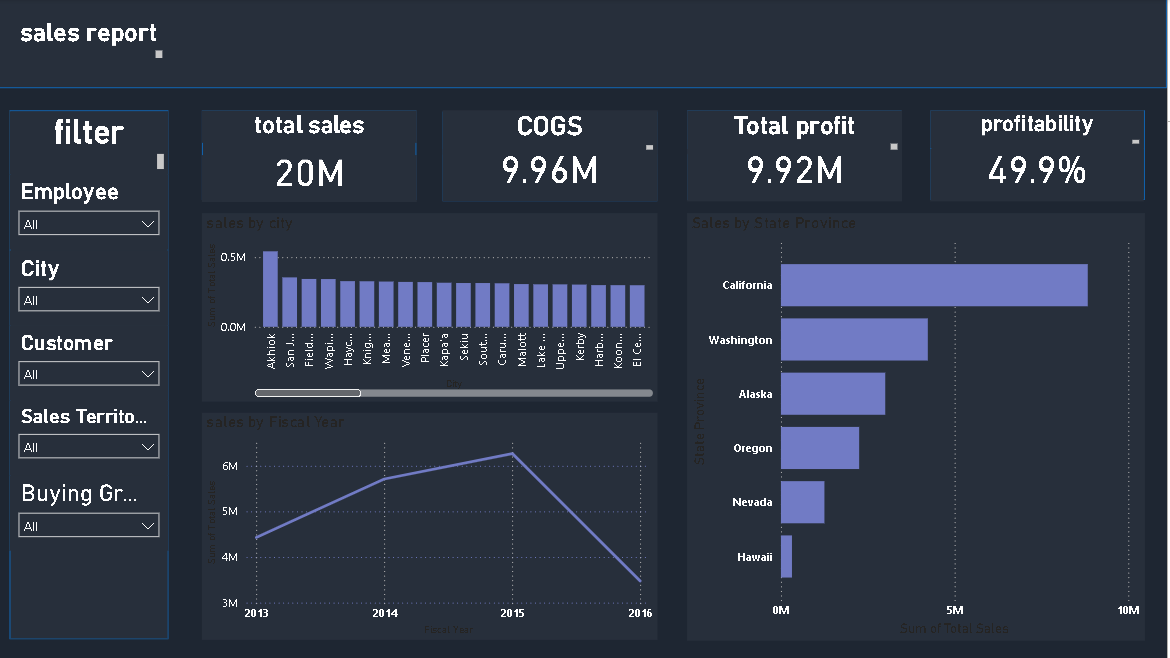

This screenshot's page, from the dashboard's own definition file:
{"tool":"powerbi","page":{"name":"Sales","canvas":[1280,720],"ordinal":0},"visuals":[{"type":"shape","box":[0,0,1280,97.4],"z":0},{"type":"shape","box":[15.4,122,173.8,578.1],"z":1000},{"type":"shape","box":[225.7,122,234.3,97.9],"z":2000},{"type":"card","fields":{"Values":["Sum(FactSale.Total Sales)"]},"box":[225.6,170,234.4,51.1],"z":3000},{"type":"textbox","title":"total sales","box":[225.6,122.2,234.4,35.6],"z":4000},{"type":"shape","box":[488.8,122.9,234.3,97.9],"z":5000},{"type":"shape","box":[755.7,122,234.3,97.9],"z":6000},{"type":"shape","box":[1021.7,122,234.3,97.9],"z":7000},{"type":"card","fields":{"Values":["FactSale.prifitability"]},"box":[1022.2,163.3,233.3,56.7],"z":8000},{"type":"card","fields":{"Values":["Sum(FactSale.Profit)"]},"box":[755.6,163.3,234.4,56.7],"z":9000},{"type":"card","fields":{"Values":["Sum(FactSale.COST)"]},"box":[488.9,163.3,234.4,56.7],"z":10000},{"type":"textbox","title":"profitability","box":[1022.2,122.2,233.3,41.1],"z":11000},{"type":"textbox","title":"Total profit","box":[755.6,122.2,234.4,47.8],"z":12000},{"type":"textbox","title":"COGS","box":[488.9,122.2,234.4,47.8],"z":13000},{"type":"textbox","title":"filter","box":[15.6,123.3,173.3,68.9],"z":14000},{"type":"slicer","fields":{"Values":["DimEmployee.Employee"]},"box":[15.6,192.2,173.3,82.2],"z":15000},{"type":"slicer","fields":{"Values":["DimCity.City"]},"box":[15.6,274.4,173.3,82.2],"z":16000},{"type":"slicer","fields":{"Values":["DimCity.Sales Territory"]},"box":[15.6,438.9,173.3,82.2],"z":17000},{"type":"slicer","fields":{"Values":["DimCustomer.Customer"]},"box":[15.6,356.7,173.3,82.2],"z":18000},{"type":"slicer","fields":{"Values":["DimCustomer.Buying Group"]},"box":[15.6,521.1,173.3,82.2],"z":19000},{"type":"textbox","title":"sales report","box":[15.6,20,172.2,50],"z":20000},{"type":"columnChart","title":"sales by city","fields":{"Category":["DimCity.City"],"Y":["Sum(FactSale.Total Sales)"]},"box":[225.6,233.3,497.8,205.6],"z":20001},{"type":"lineChart","title":"sales by Fiscal Year","fields":{"Category":["DimDate.Fiscal Year Hierarchy.Fiscal Year","DimDate.Fiscal Year Hierarchy.Month","DimDate.Fiscal Year Hierarchy.Day"],"Y":["Sum(FactSale.Total Sales)"]},"box":[225.6,452.2,497.8,247.8],"z":20002},{"type":"barChart","title":" Sales by State Province","fields":{"Y":["Sum(FactSale.Total Sales)"],"Category":["DimCity.State Province Hierarchy.State Province","DimCity.State Province Hierarchy.City"]},"box":[755.6,233.3,500,466.7],"z":20003}]}

Visuals, with their boxes in screenshot pixels (x1, y1, x2, y2), scaled from the page's 1280x720 canvas onto the 1170x658 screenshot:
shape: region(0, 0, 1169, 89)
shape: region(14, 111, 173, 640)
shape: region(206, 111, 420, 201)
card - Sum(FactSale.Total Sales): region(206, 155, 420, 202)
"total sales" textbox: region(206, 112, 420, 144)
shape: region(447, 112, 661, 202)
shape: region(691, 111, 905, 201)
shape: region(934, 111, 1148, 201)
card - FactSale.prifitability: region(934, 149, 1148, 201)
card - Sum(FactSale.Profit): region(691, 149, 905, 201)
card - Sum(FactSale.COST): region(447, 149, 661, 201)
"profitability" textbox: region(934, 112, 1148, 149)
"Total profit" textbox: region(691, 112, 905, 155)
"COGS" textbox: region(447, 112, 661, 155)
"filter" textbox: region(14, 113, 173, 176)
slicer - DimEmployee.Employee: region(14, 176, 173, 251)
slicer - DimCity.City: region(14, 251, 173, 326)
slicer - DimCity.Sales Territory: region(14, 401, 173, 476)
slicer - DimCustomer.Customer: region(14, 326, 173, 401)
slicer - DimCustomer.Buying Group: region(14, 476, 173, 551)
"sales report" textbox: region(14, 18, 172, 64)
"sales by city" columnChart: region(206, 213, 661, 401)
"sales by Fiscal Year" lineChart: region(206, 413, 661, 640)
" Sales by State Province" barChart: region(691, 213, 1148, 640)
